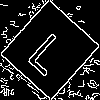L: (25, 24, 77, 77)
